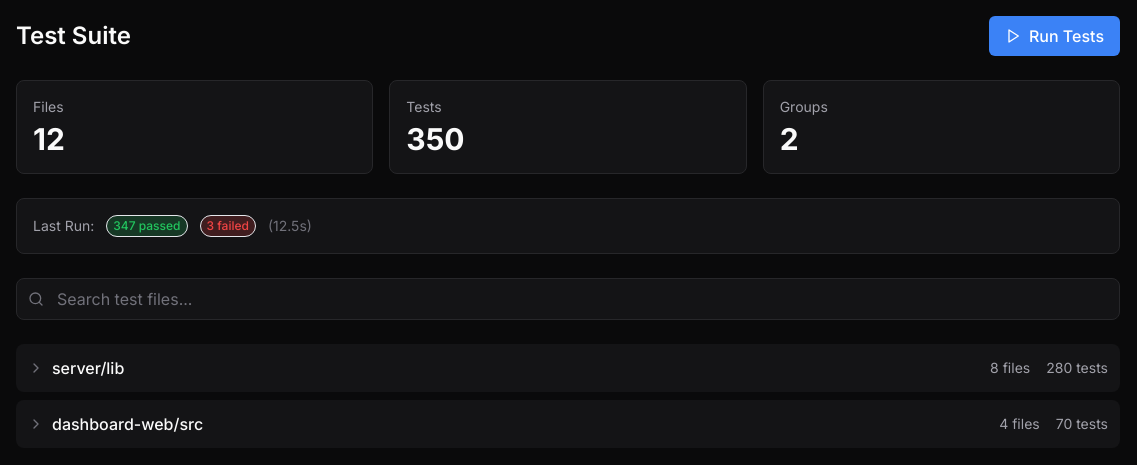
Test: TestSuitePage › search filters file list
In the field with test id "search-input": (568, 299) [16,278,1120,320], type "server"
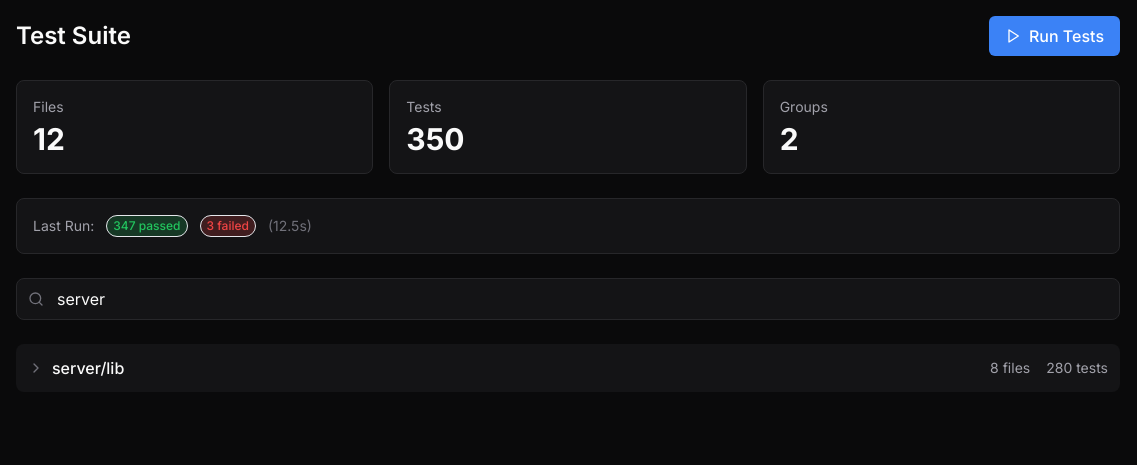
Expected: the text with test id "group-name" reads "server/lib", [52,358,124,378]
Result: the number of elements with test id "group-row" is 1 at [16,344,1120,392]
